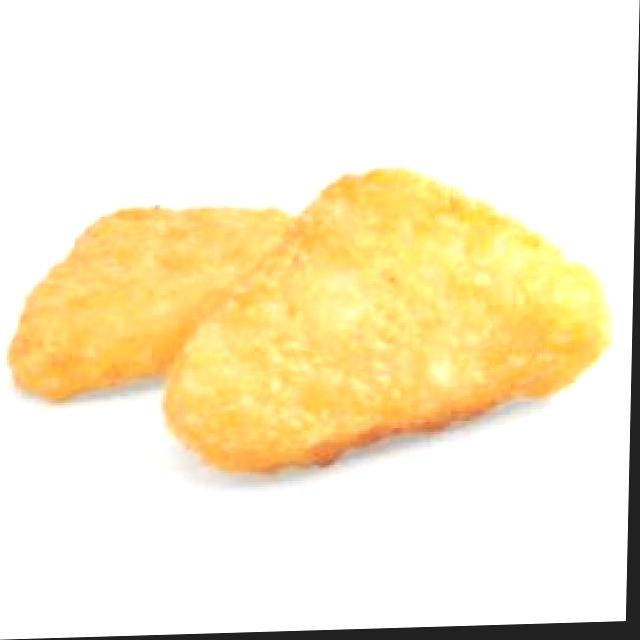triangle_hash_brown: (5, 164, 613, 473)
